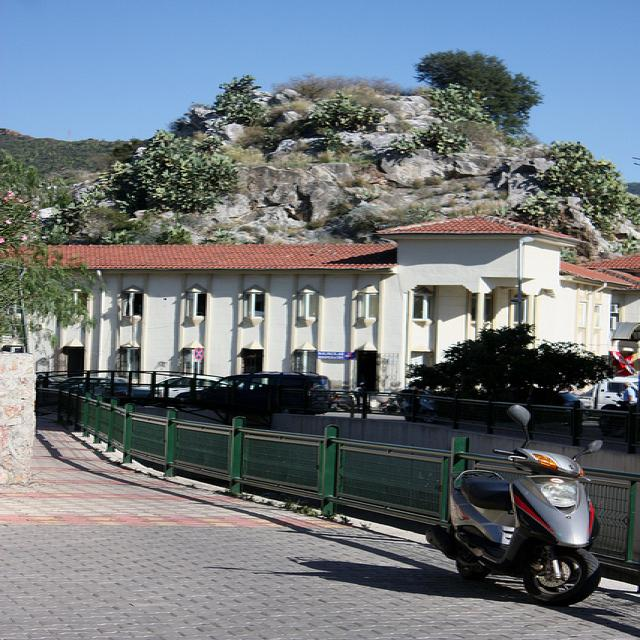motor: (423, 404, 604, 605)
